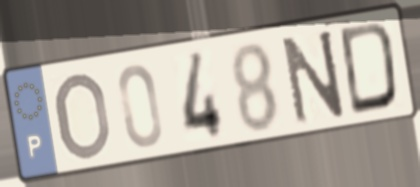0: (116, 61, 165, 151)
4: (180, 48, 224, 142)
8: (227, 38, 282, 135)
D: (336, 18, 401, 119)
N: (279, 25, 349, 128)
O: (53, 69, 114, 163)
